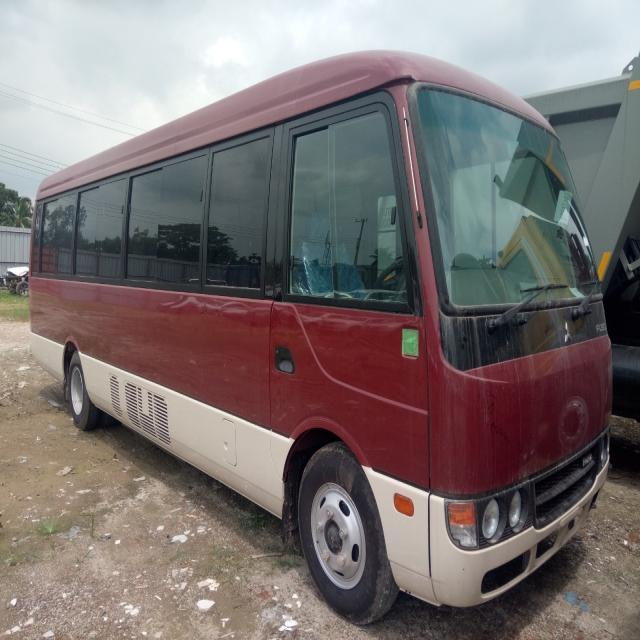bus: (7, 28, 625, 640)
